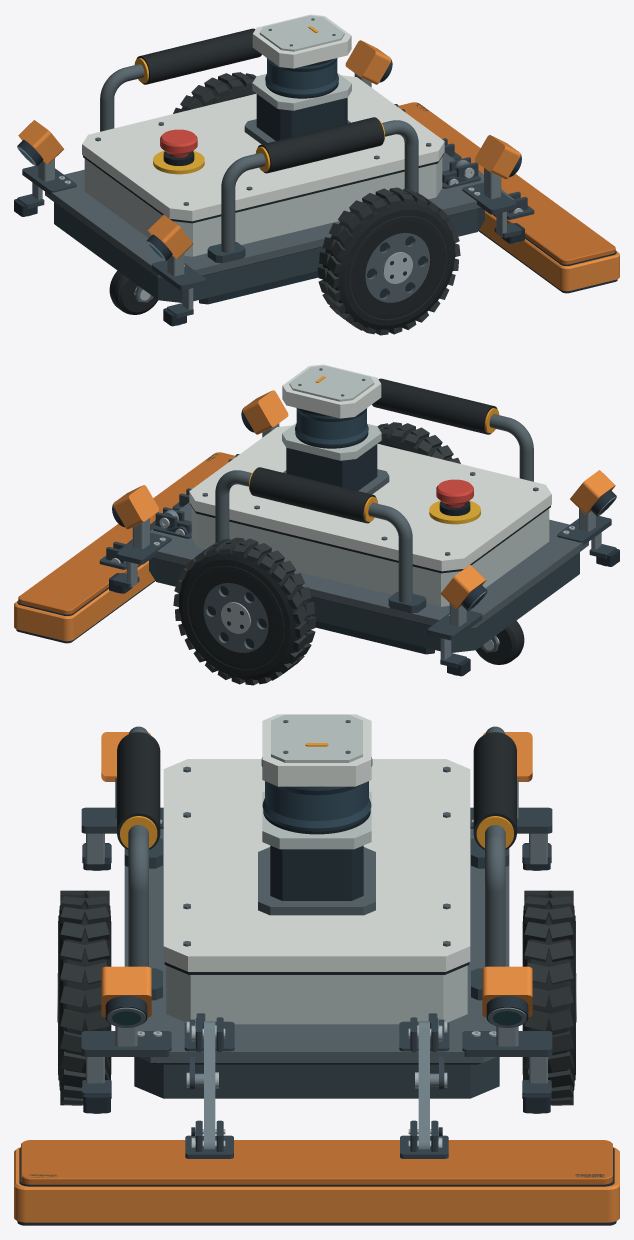
Rendered from Rad_Roomba_Prototype.glb.
The picture shows the model from 3 angles, top to bottom: view 1: azimuth 30°, elevation 25°; view 2: azimuth 150°, elevation 25°; view 3: azimuth 270°, elevation 25°; orthographic projection. The views are drawn at different scales.
Parts seen in each view (by area): view 1: electronics_cover, electronics_lower_shell, right_tyre, structural_deck, lower_chassis_pan, Head_Service_Lid, right_tread, right_handle_grip, left_handle_grip, Head_Amber_Housing, right_carry_rail, lidar_pedestal (+24 smaller); view 2: electronics_cover, electronics_lower_shell, left_tyre, structural_deck, lower_chassis_pan, Head_Service_Lid, left_tread, left_handle_grip, right_handle_grip, Head_Amber_Housing, left_carry_rail, lidar_pedestal (+24 smaller); view 3: electronics_cover, Head_Service_Lid, Head_Amber_Housing, structural_deck, electronics_lower_shell, lower_chassis_pan, left_tread, right_tread, lidar_pedestal, lidar_optical_window, lidar_cover_plate, left_handle_grip (+25 smaller).
Boxes of the visible parts, x1,y1,x2,y2 form: electronics_cover: (82, 75, 444, 221); electronics_lower_shell: (84, 157, 442, 256); right_tyre: (323, 194, 454, 330); structural_deck: (45, 152, 483, 278); lower_chassis_pan: (54, 202, 484, 302); Head_Service_Lid: (398, 102, 615, 264); right_tread: (317, 187, 460, 335); right_handle_grip: (257, 117, 384, 173); left_handle_grip: (136, 28, 261, 84); Head_Amber_Housing: (479, 210, 619, 291); right_carry_rail: (221, 120, 418, 252); lidar_pedestal: (256, 94, 347, 140); electronics_cover: (189, 425, 551, 571); electronics_lower_shell: (191, 507, 549, 606); left_tyre: (179, 544, 310, 680); structural_deck: (150, 502, 588, 628); lower_chassis_pan: (149, 552, 579, 652); Head_Service_Lid: (18, 452, 235, 614); left_tread: (173, 537, 316, 685); left_handle_grip: (249, 467, 376, 523); right_handle_grip: (372, 378, 497, 434); Head_Amber_Housing: (14, 560, 154, 641); left_carry_rail: (215, 470, 412, 602); lidar_pedestal: (286, 444, 377, 490); electronics_cover: (163, 759, 470, 971); Head_Service_Lid: (21, 1140, 612, 1184); Head_Amber_Housing: (14, 1147, 619, 1222); structural_deck: (124, 829, 509, 1062); electronics_lower_shell: (166, 965, 467, 1024); lower_chassis_pan: (134, 1057, 499, 1098); left_tread: (524, 890, 573, 1105); right_tread: (60, 890, 109, 1105); lidar_pedestal: (270, 845, 363, 900); lidar_optical_window: (262, 781, 371, 831); lidar_cover_plate: (271, 714, 362, 762); left_handle_grip: (473, 732, 516, 849).
Bounding box in the file's own units: 0.4274 × 0.2252 × 0.35.
